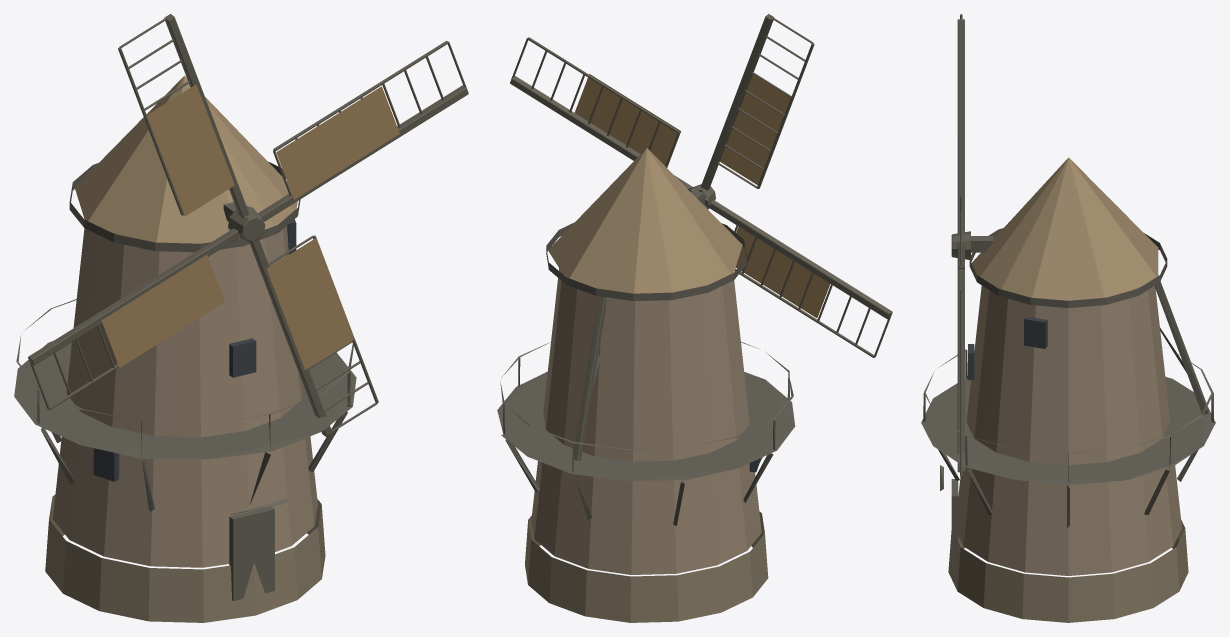
Rendered from windmill-lod1.glb.
3 renders of one model, left to right at view 1: azimuth 30°, elevation 25°; view 2: azimuth 150°, elevation 25°; view 3: azimuth 270°, elevation 25°, orthographic. The views are drawn at different scales.
Size of the model in its own units: 13.22 by 17.71 by 9.08.
